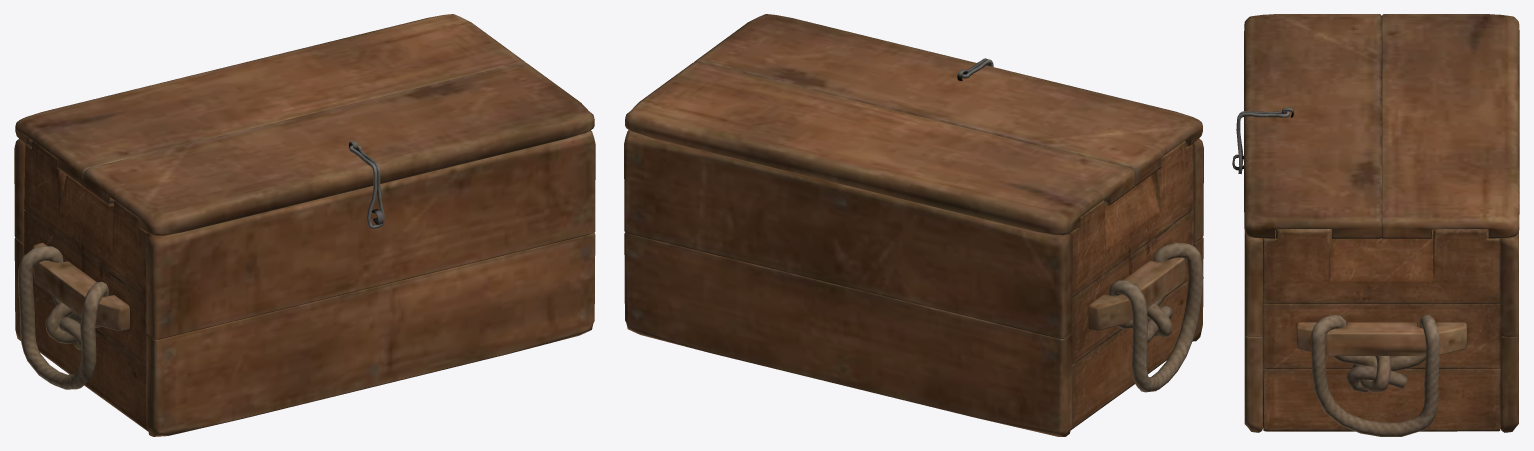
Rendered from crate.glb.
3 views of the same model, side by side, from view 1: azimuth 30°, elevation 25°; view 2: azimuth 150°, elevation 25°; view 3: azimuth 270°, elevation 25° (orthographic). The views are drawn at different scales.
Visible parts, largest first — view 1: wooden_crate_01_lid; view 2: wooden_crate_01_lid; view 3: wooden_crate_01_lid.
Part boxes in pixels (left/top/right/bottom): wooden_crate_01_lid: left=14, top=14, right=595, bottom=436; wooden_crate_01_lid: left=624, top=14, right=1203, bottom=436; wooden_crate_01_lid: left=1232, top=14, right=1519, bottom=436.
Size of the model in its own units: 0.8253 by 0.3496 by 0.4089.
Materials: 1 (1 with a texture image).
